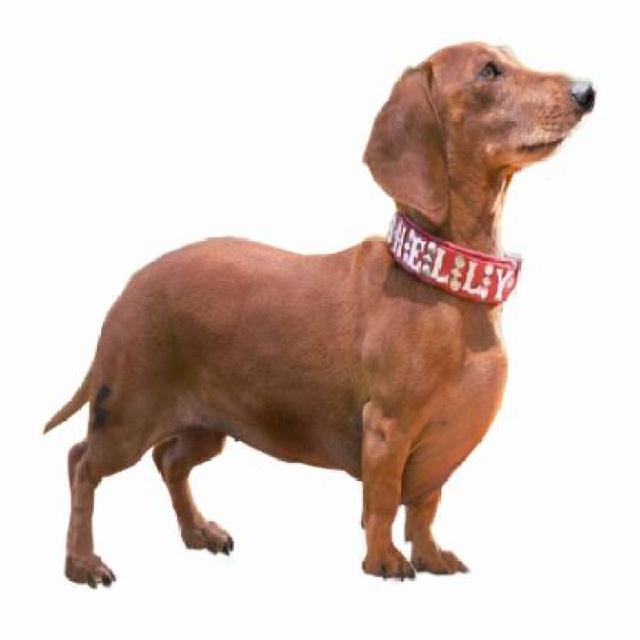Dog: (43, 39, 599, 586)
